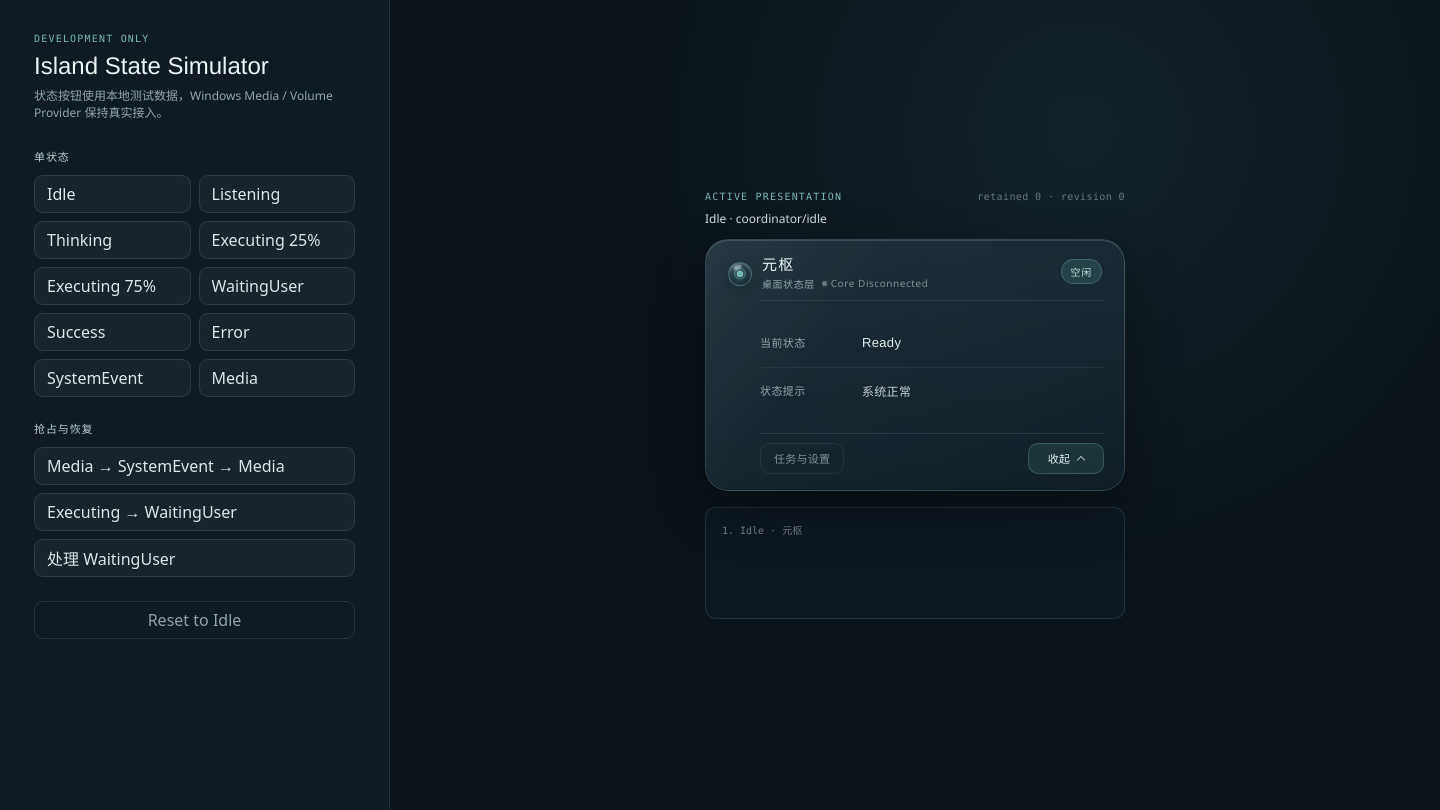
Island State Simulator › Executing 25% 控件触发 Executing 展示
The width and height of the screenshot is (1440, 810).
Click the button "Executing 25%" at coordinates (277, 240), box [198,221,355,259]
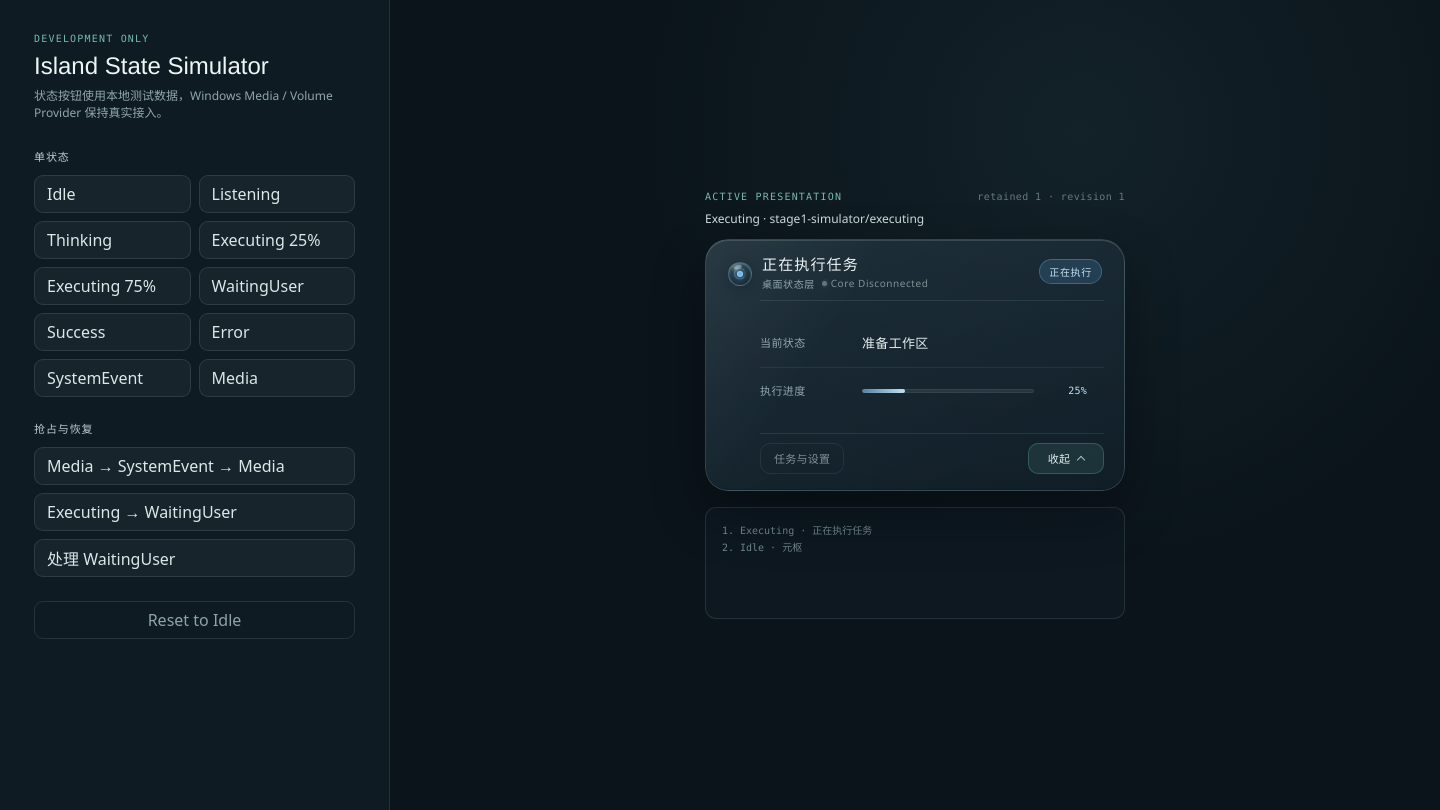
Check: the text with test id "simulator-active" shows "Executing", box [705,210,760,226]
